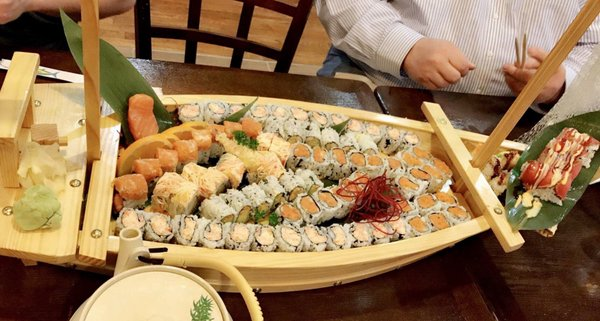sandwich: (469, 4, 599, 169), (421, 101, 526, 254)
sushi: (76, 265, 232, 319)
